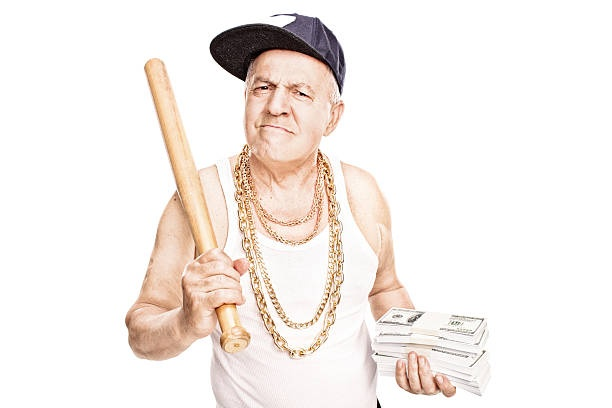bita: (144, 50, 248, 348)
